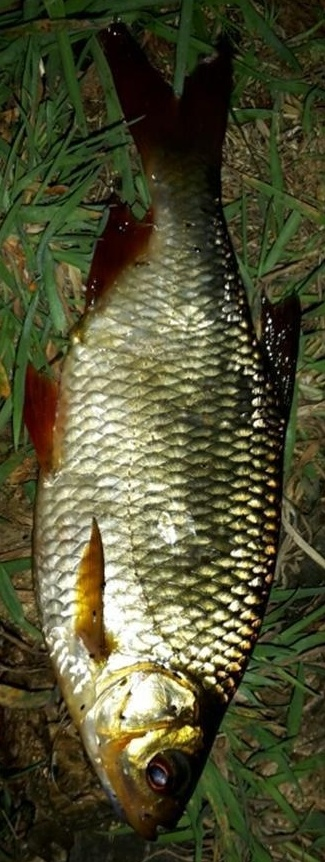Scardinius erythrophthalmus: (20, 20, 305, 842)
